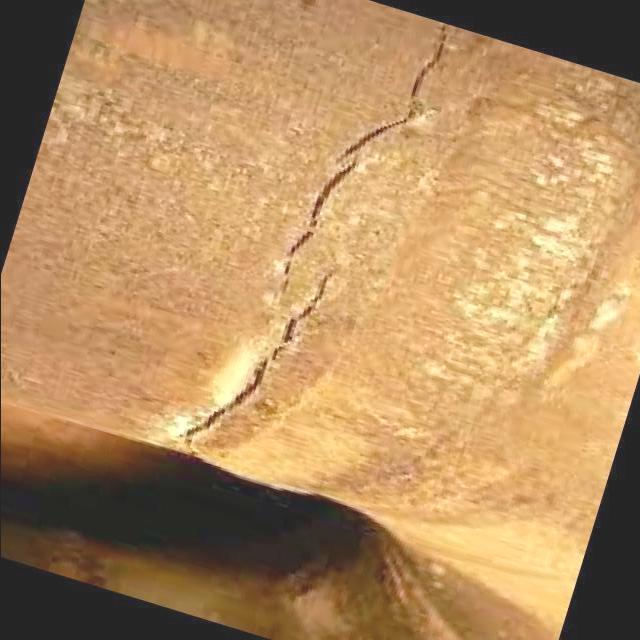defect: (273, 19, 459, 304), (174, 251, 345, 456)
